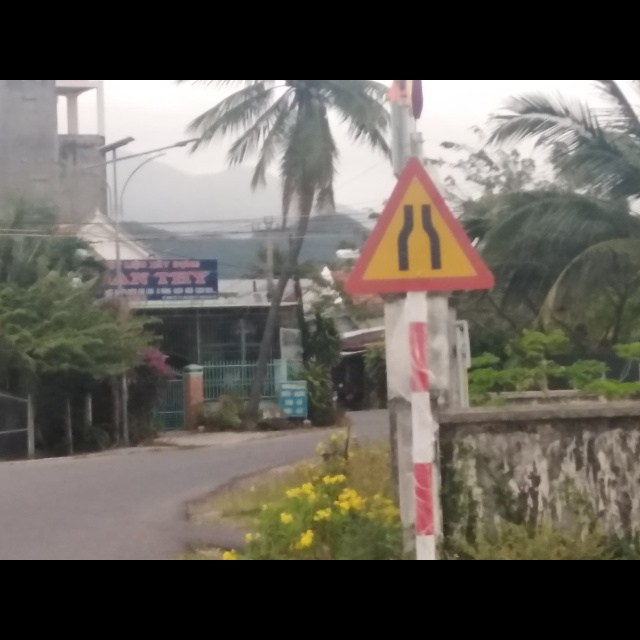Đường bị hẹp cả hai bên: (342, 159, 494, 295)
